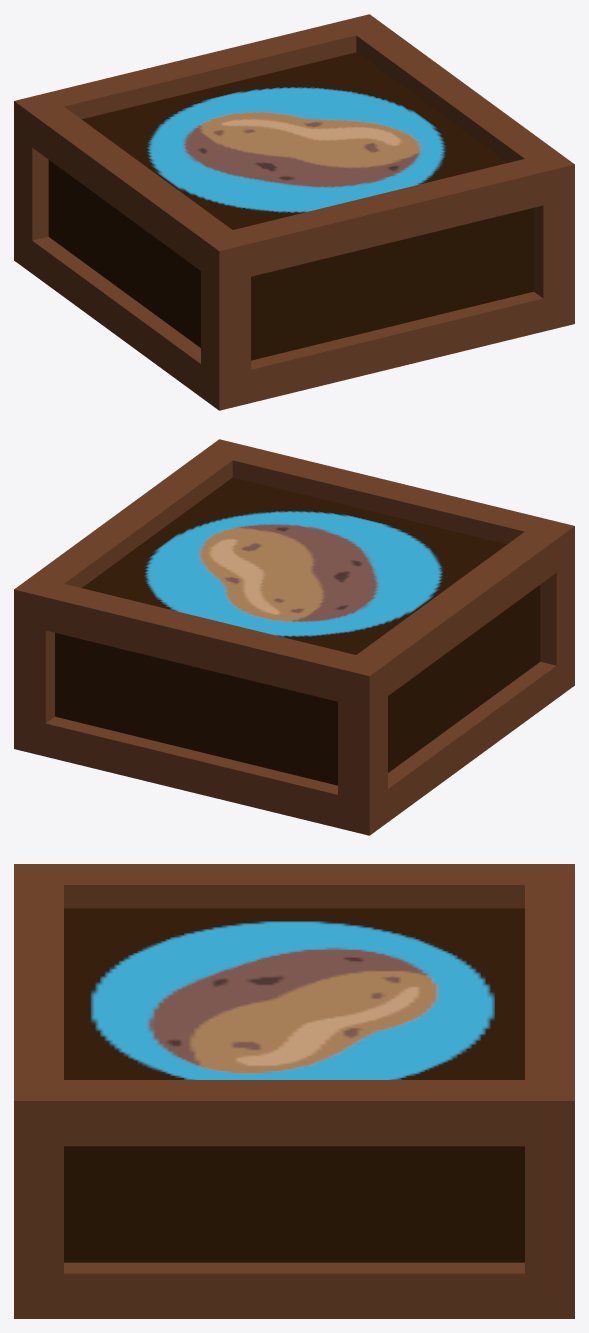
File: CajaPapa.fbx
3 renders of one model, top to bottom at view 1: azimuth 30°, elevation 25°; view 2: azimuth 150°, elevation 25°; view 3: azimuth 270°, elevation 25°, orthographic. The views are drawn at different scales.
Parts seen in each view (by area): view 1: CajaObjetos.002; view 2: CajaObjetos.002; view 3: CajaObjetos.002.
Part boxes in pixels (left/top/right/bottom): CajaObjetos.002: left=14, top=14, right=574, bottom=410; CajaObjetos.002: left=14, top=439, right=574, bottom=835; CajaObjetos.002: left=14, top=864, right=574, bottom=1318.
Size of the model in its own units: 350 by 150 by 350.
Materials: 3 (2 with a texture image).
